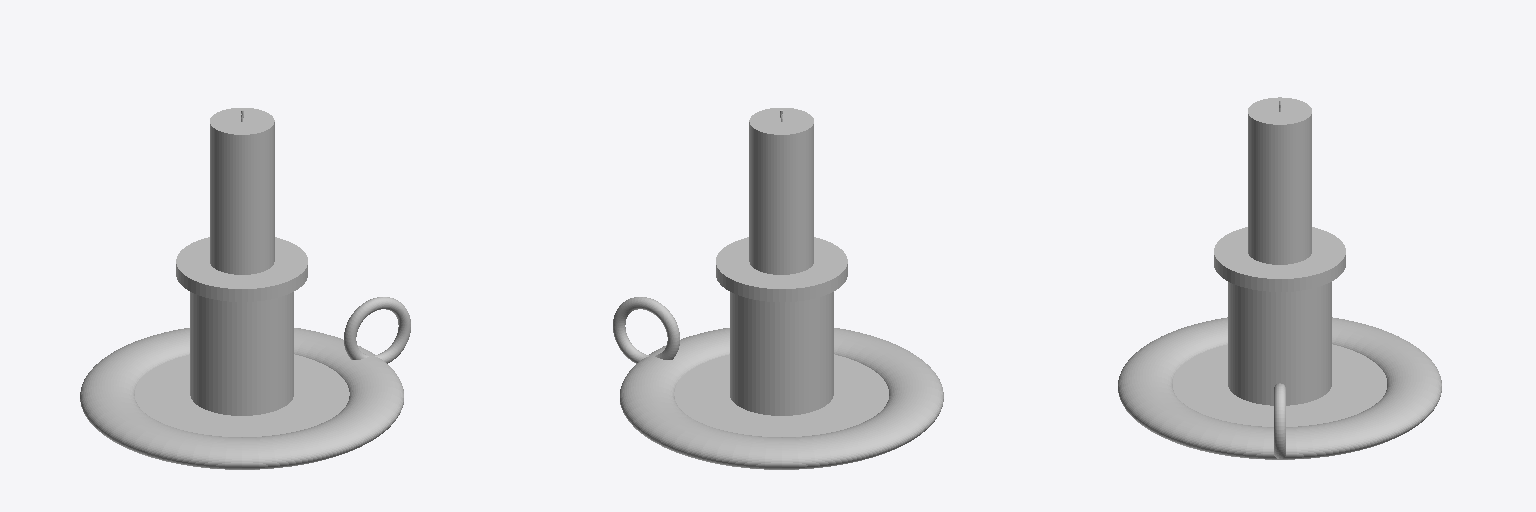
File: CandleStick.obj
3 renders of one model, left to right at view 1: azimuth 30°, elevation 25°; view 2: azimuth 150°, elevation 25°; view 3: azimuth 270°, elevation 25°, orthographic.
Parts seen in each view (by area): view 1: Torus, Cylinder.002, Cylinder, Cylinder.001, Cylinder.003, Torus.002; view 2: Torus, Cylinder.002, Cylinder, Cylinder.001, Cylinder.003, Torus.002; view 3: Torus, Cylinder.002, Cylinder, Cylinder.001, Cylinder.003, Torus.002.
Boxes of the visible parts, <box> form: Torus: <box>80,328,403,469</box>; Cylinder.002: <box>190,292,293,415</box>; Cylinder: <box>210,108,274,274</box>; Cylinder.001: <box>135,354,349,436</box>; Cylinder.003: <box>176,237,307,301</box>; Torus.002: <box>344,297,410,363</box>; Torus: <box>620,328,943,469</box>; Cylinder.002: <box>730,292,833,415</box>; Cylinder: <box>749,108,813,274</box>; Cylinder.001: <box>674,354,888,436</box>; Cylinder.003: <box>716,237,847,301</box>; Torus.002: <box>613,297,679,363</box>; Torus: <box>1118,317,1441,459</box>; Cylinder.002: <box>1228,282,1331,405</box>; Cylinder: <box>1248,97,1311,264</box>; Cylinder.001: <box>1173,344,1386,426</box>; Cylinder.003: <box>1214,227,1345,291</box>; Torus.002: <box>1274,383,1285,458</box>.
Size of the model in its own units: 5.9 by 5.44 by 5.38.